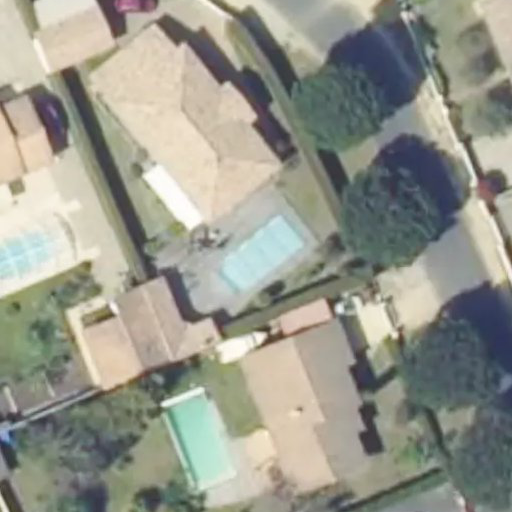pool: (161, 391, 235, 488), (215, 216, 304, 292), (1, 222, 63, 281)
